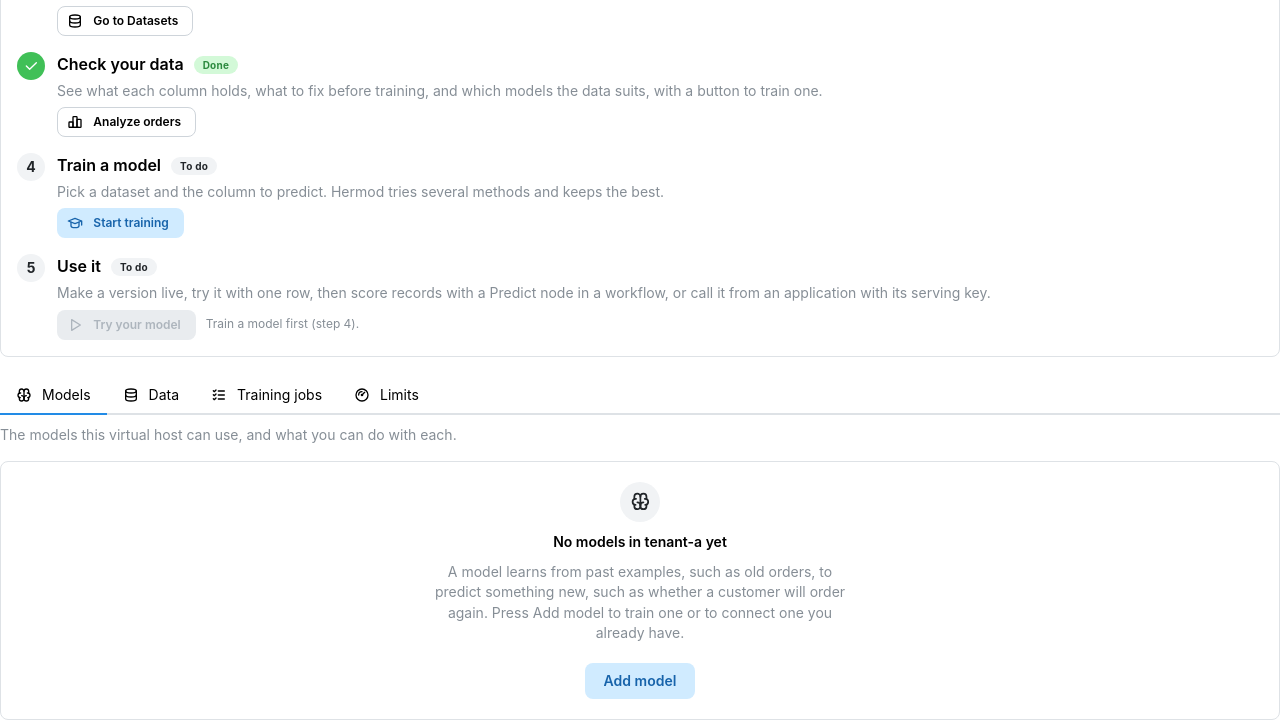
Analyzing a dataset › shows the first rows from the eye button
The image size is (1280, 720).
(page scrolled)
Click the tab "Data".
click(151, 396)  # box left=107, top=376, right=195, bottom=414
(page scrolled)
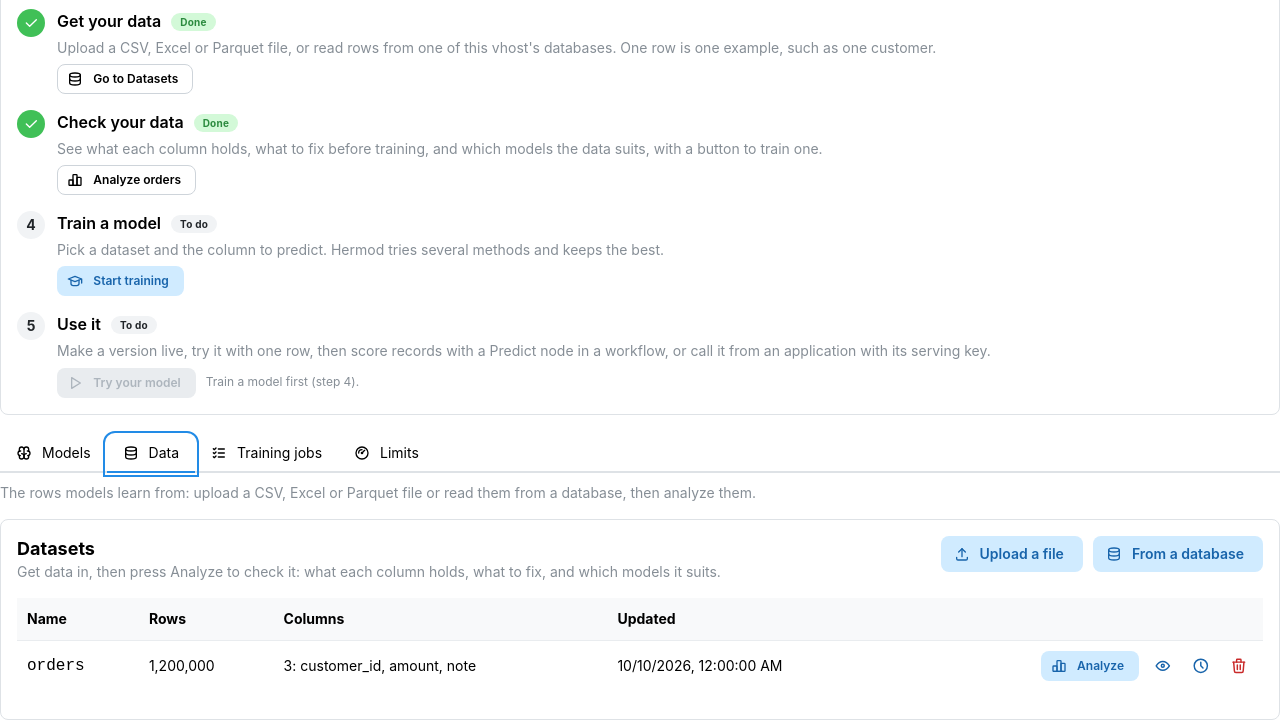
Click the button named "Show rows of orders".
click(1163, 666)  # box left=1149, top=652, right=1177, bottom=680
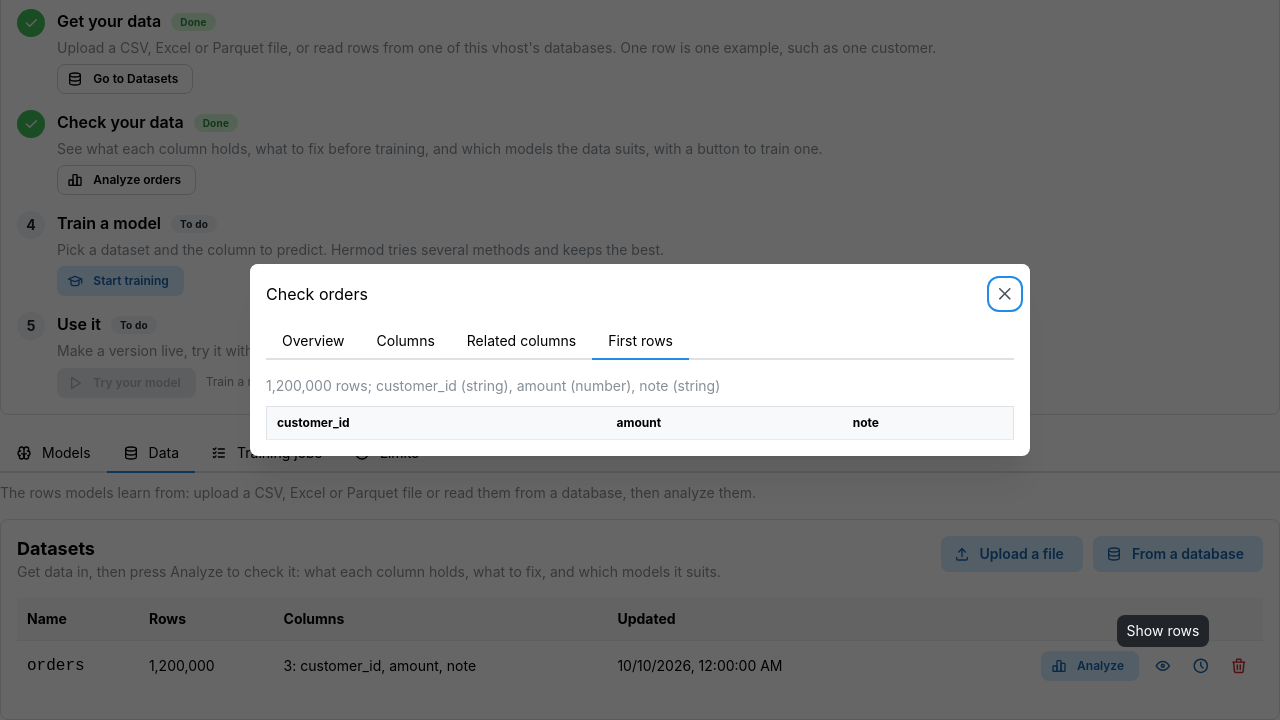
Expected: the tab "First rows" is shown, left=592, top=324, right=689, bottom=360
